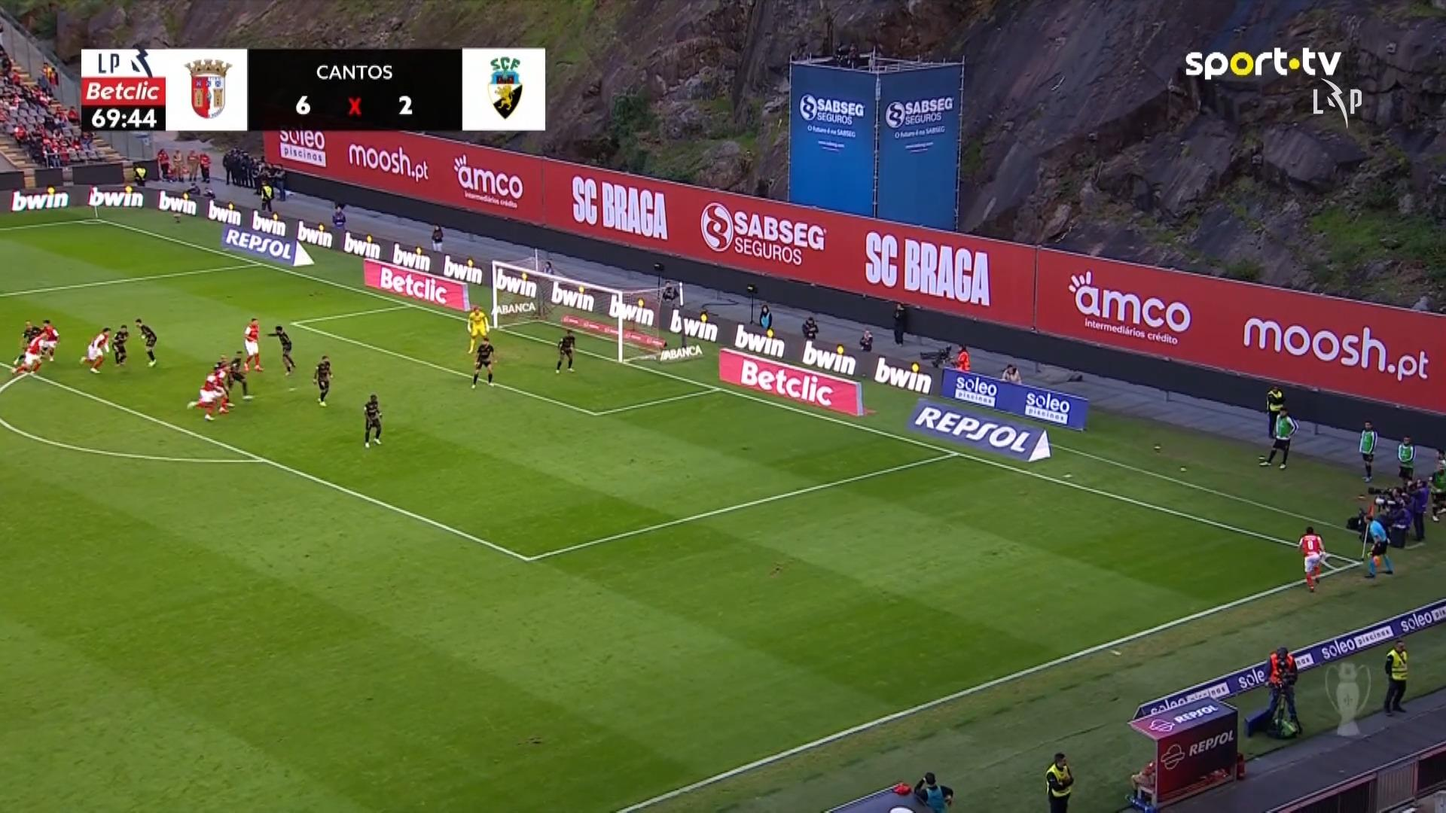goalkeeper: (465, 303, 489, 353)
player: (186, 366, 230, 421), (1296, 525, 1326, 592), (214, 352, 254, 402), (11, 334, 55, 376), (10, 319, 41, 373), (266, 324, 295, 376), (79, 326, 111, 373), (470, 335, 496, 388), (362, 393, 383, 448), (134, 317, 157, 367), (312, 354, 334, 406), (242, 317, 262, 372), (554, 328, 576, 373), (38, 318, 59, 361), (111, 323, 130, 367)
referee: (1358, 509, 1393, 578)
